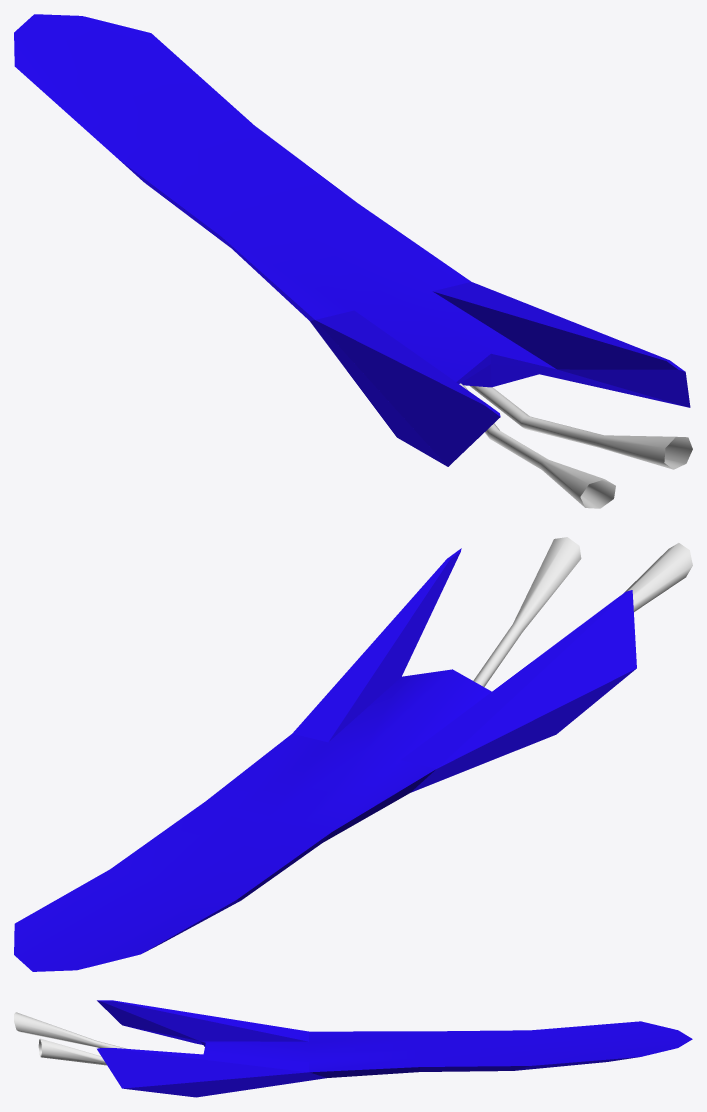
Rendered from skate board.FBX.
3 views of the same model, one above another, from view 1: azimuth 30°, elevation 25°; view 2: azimuth 150°, elevation 25°; view 3: azimuth 270°, elevation 25° (orthographic). The views are drawn at different scales.
Parts seen in each view (by area): view 1: Plane001, Cylinder001; view 2: Plane001, Cylinder001; view 3: Plane001, Cylinder001.
Boxes of the visible parts, x1,y1,x2,y2 form: Plane001: [14, 14, 690, 466]; Cylinder001: [459, 383, 692, 508]; Plane001: [14, 548, 636, 971]; Cylinder001: [473, 537, 692, 686]; Plane001: [97, 1000, 692, 1097]; Cylinder001: [14, 1012, 127, 1065].
Size of the model in its own units: 17.1 by 6.28 by 77.61.
